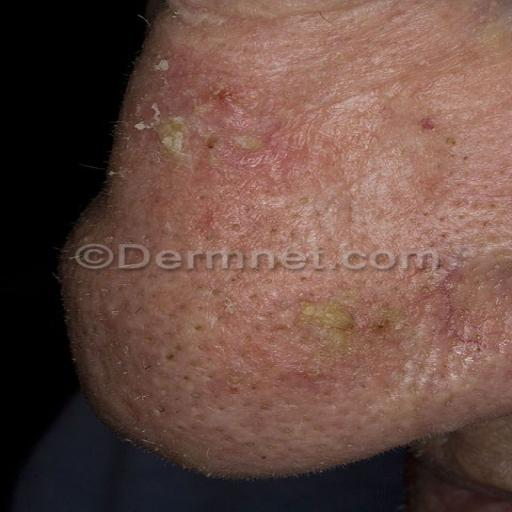Skin_Lesion: (298, 288, 396, 380), (141, 111, 194, 175), (272, 192, 310, 253), (130, 342, 184, 379), (224, 126, 271, 162), (225, 369, 264, 408), (192, 320, 225, 362), (210, 80, 239, 118), (414, 114, 439, 138)
